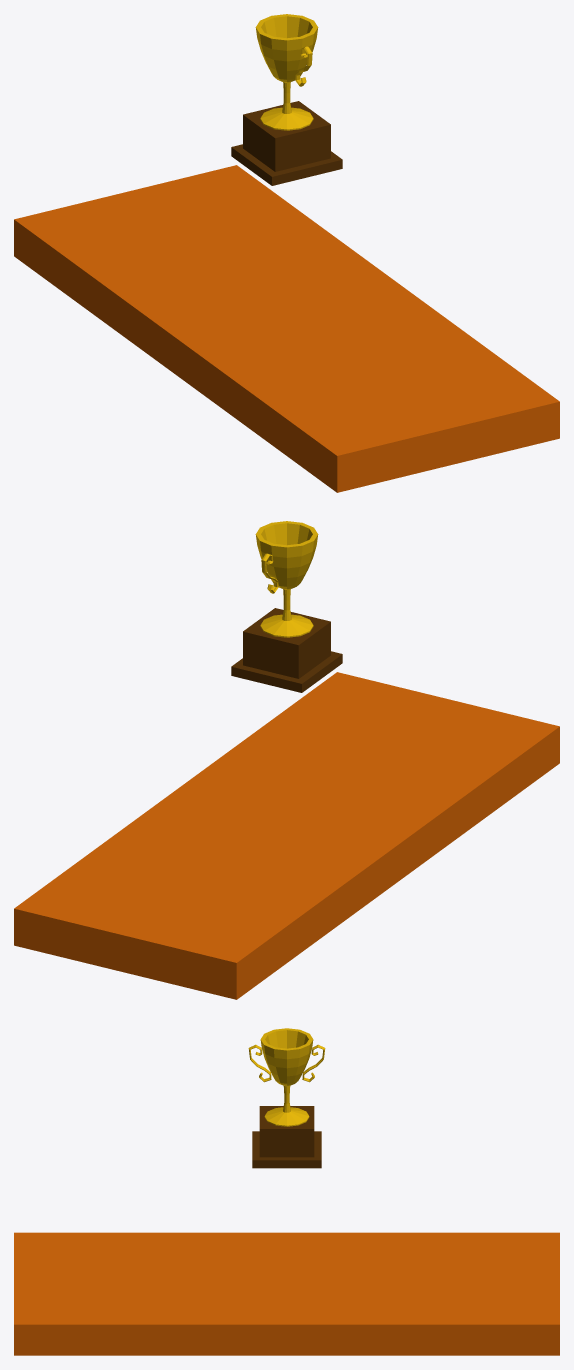
File: Platform_top.fbx
3 renders of one model, top to bottom at view 1: azimuth 30°, elevation 25°; view 2: azimuth 150°, elevation 25°; view 3: azimuth 270°, elevation 25°, orthographic. The views are drawn at different scales.
Parts seen in each view (by area): view 1: Platform_top, Cube, Cylinder.003; view 2: Platform_top, Cube, Cylinder.003; view 3: Platform_top, Cylinder.003, Cube.
Part boxes in pixels (left/top/right/bottom): Platform_top: left=14, top=165, right=559, bottom=492; Cube: left=231, top=101, right=342, bottom=185; Cylinder.003: left=255, top=14, right=318, bottom=130; Platform_top: left=14, top=672, right=559, bottom=999; Cube: left=231, top=608, right=342, bottom=692; Cylinder.003: left=255, top=521, right=318, bottom=637; Platform_top: left=14, top=1232, right=559, bottom=1355; Cylinder.003: left=248, top=1028, right=325, bottom=1126; Cube: left=252, top=1106, right=321, bottom=1168.
Bounding box in the file's own units: 318 × 437 × 800.
